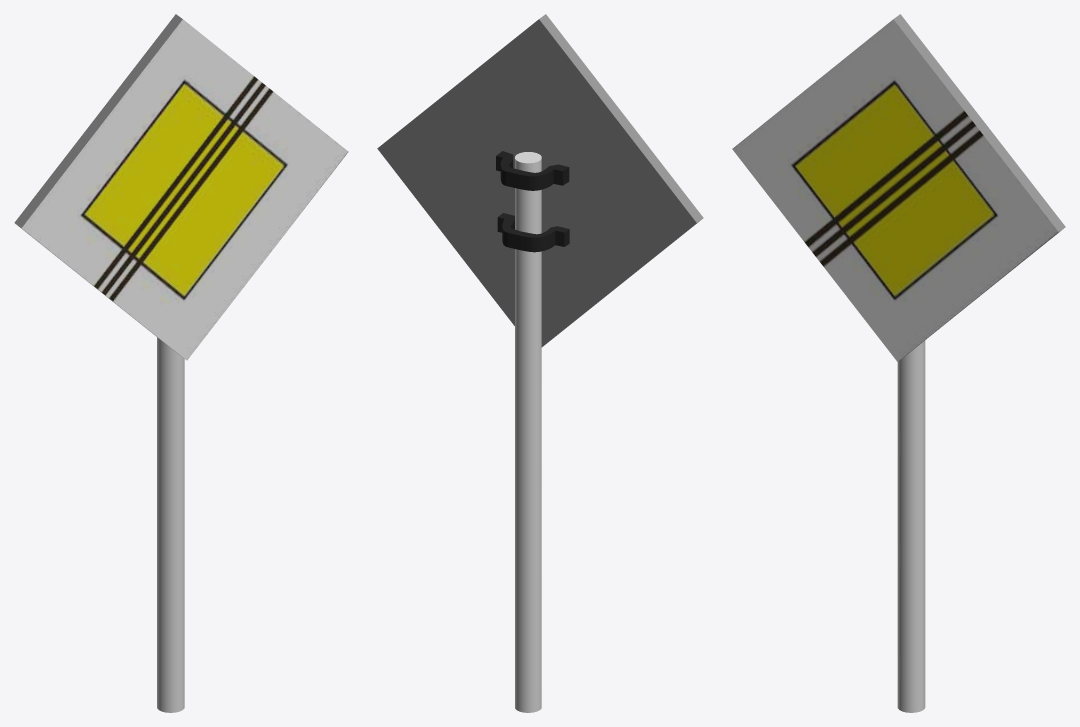
File: SFER.fbx
3 views of the same model, side by side, from view 1: azimuth 30°, elevation 25°; view 2: azimuth 150°, elevation 25°; view 3: azimuth 330°, elevation 25° (orthographic). The views are drawn at different scales.
Parts seen in each view (by area): view 1: Box001, sipka; view 2: Box001, sipka, s, Line006; view 3: Box001, sipka.
Boxes of the visible parts, x1,y1,x2,y2 form: Box001: [14, 14, 348, 360]; sipka: [157, 337, 184, 712]; Box001: [377, 14, 703, 347]; sipka: [515, 152, 541, 712]; s: [496, 151, 569, 190]; Line006: [497, 213, 569, 252]; Box001: [732, 14, 1065, 361]; sipka: [897, 340, 925, 712].
Size of the model in its own units: 35.68 by 72.87 by 5.38.
8 materials, 1 textured.
